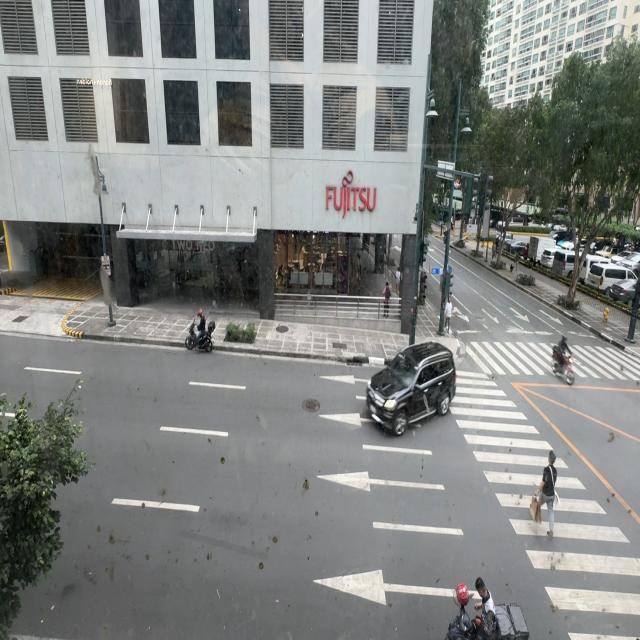crossing: (533, 450, 559, 540)
pedestrain: (382, 281, 392, 318), (356, 253, 362, 286), (395, 263, 401, 294)
waiting: (444, 297, 452, 335)
